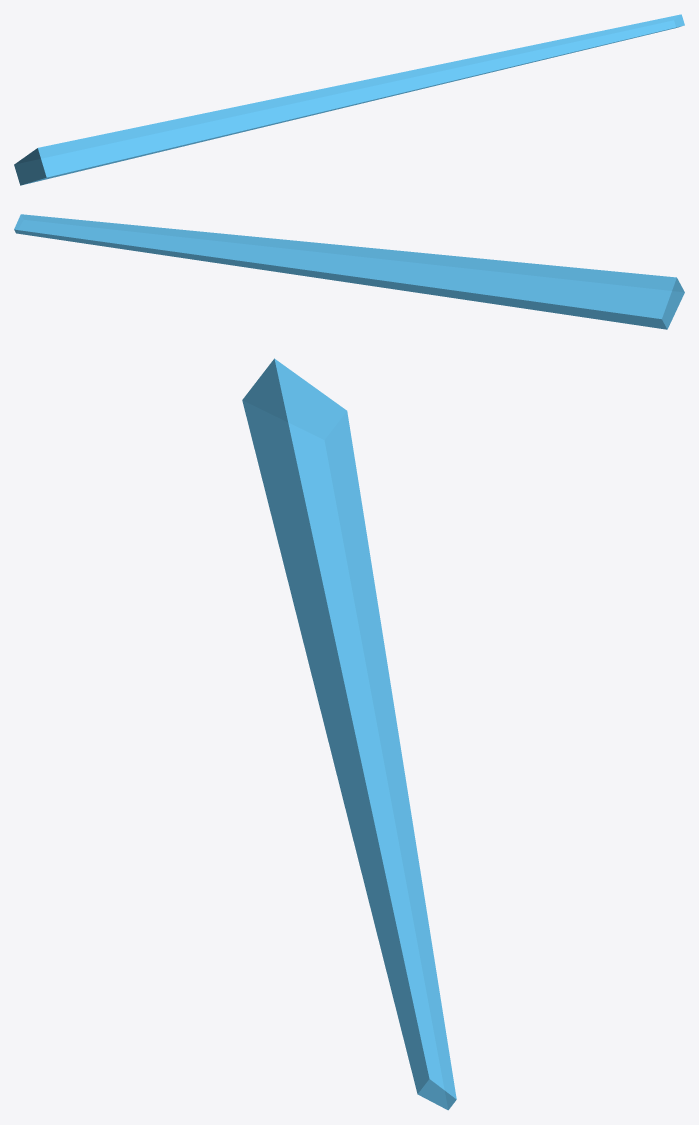
Rendered from Event_420604493_HErechit_56.fbx.
3 views of the same model, one above another, from view 1: azimuth 30°, elevation 25°; view 2: azimuth 150°, elevation 25°; view 3: azimuth 270°, elevation 25° (orthographic). The views are drawn at different scales.
Parts seen in each view (by area): view 1: Model; view 2: Model; view 3: Model.
Boxes of the visible parts, box(x1,y1,x2,y2) form: Model: box(14, 14, 684, 185); Model: box(14, 214, 684, 329); Model: box(242, 358, 456, 1110).
Bounding box in the file's own units: 18.81 × 2.17 × 2.82.
